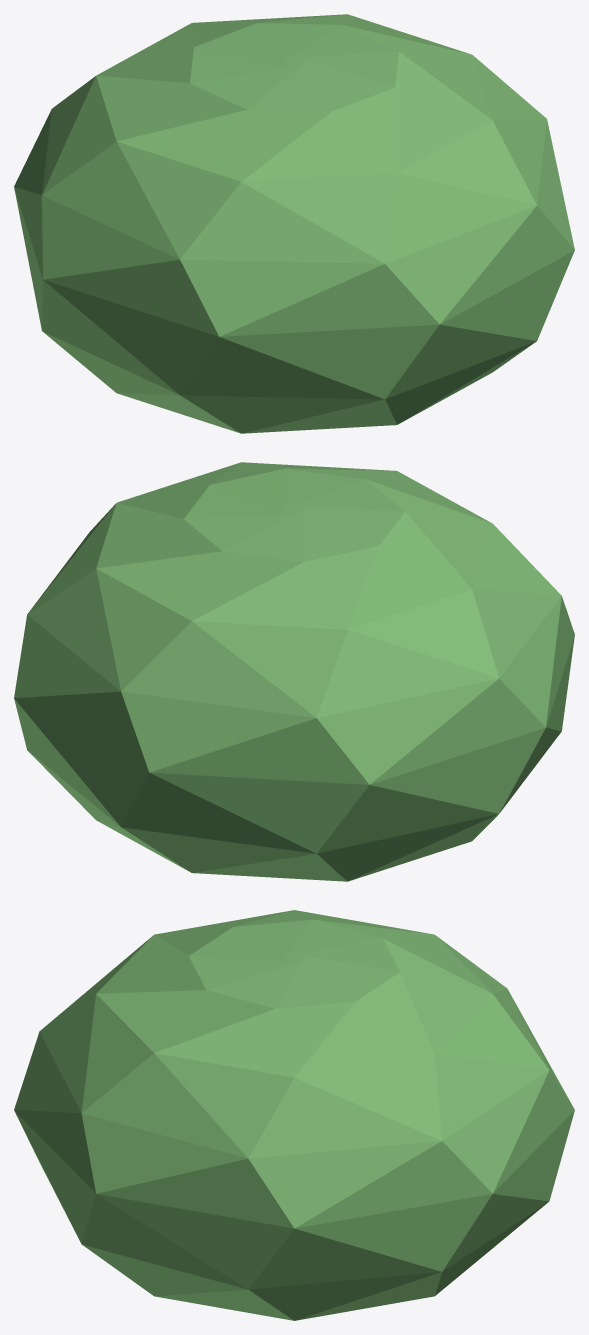
The model's file is Bush1a.fbx.
The picture shows the model from 3 angles, top to bottom: view 1: azimuth 30°, elevation 25°; view 2: azimuth 150°, elevation 25°; view 3: azimuth 270°, elevation 25°; orthographic projection. The views are drawn at different scales.
Visible parts, largest first — view 1: Sphere; view 2: Sphere; view 3: Sphere.
Boxes of the visible parts, x1,y1,x2,y2 form: Sphere: (14,14,574,433); Sphere: (14,462,574,881); Sphere: (14,910,574,1320).
Bounding box in the file's own units: 200 × 109 × 200.
